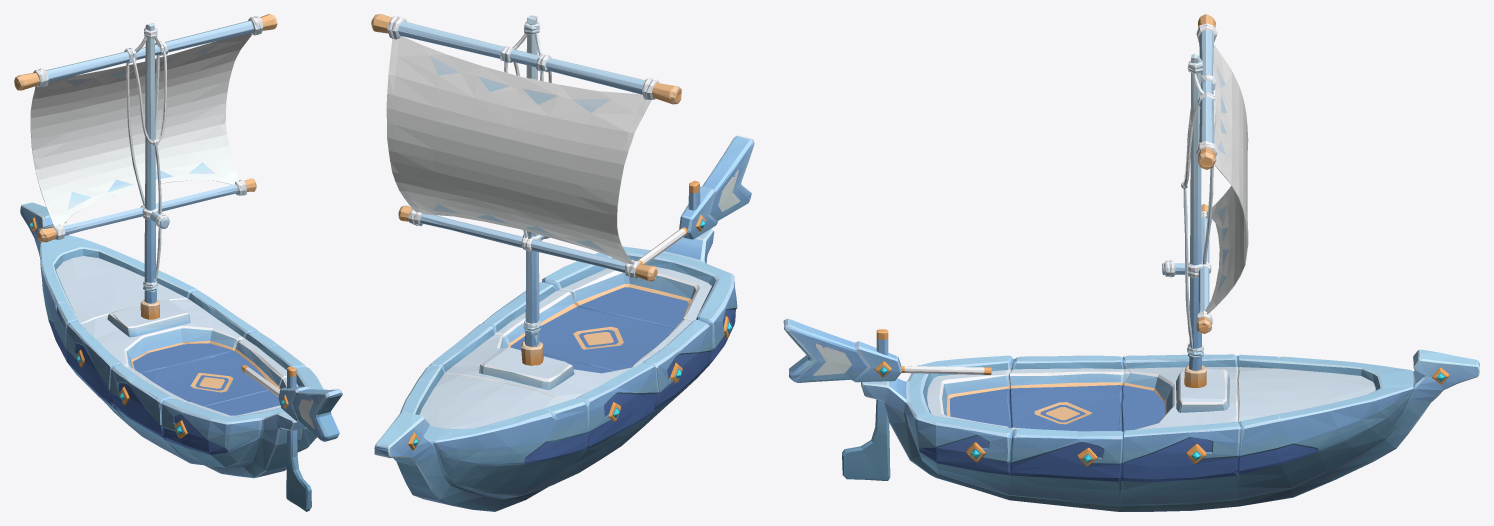
The model's file is CharSkyKid_Prop_AP32PearlBoat.glb.
3 views of the same model, side by side, from view 1: azimuth 30°, elevation 25°; view 2: azimuth 150°, elevation 25°; view 3: azimuth 270°, elevation 25° (orthographic). The views are drawn at different scales.
Parts seen in each view (by area): view 1: CharSkyKid_Prop_AP32PearlBoat; view 2: CharSkyKid_Prop_AP32PearlBoat; view 3: CharSkyKid_Prop_AP32PearlBoat.
Part boxes in pixels (x1,y1,x2,y2): CharSkyKid_Prop_AP32PearlBoat: (14,14,342,511); CharSkyKid_Prop_AP32PearlBoat: (371,14,754,511); CharSkyKid_Prop_AP32PearlBoat: (783,14,1479,511).
Size of the model in its own units: 6.39 by 9.41 by 13.26.
1 material, 1 textured.
